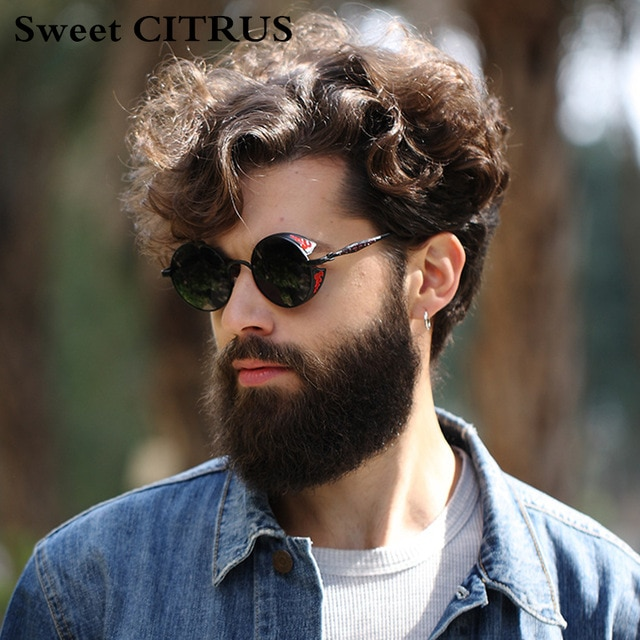sunglasses: (145, 217, 364, 313)
